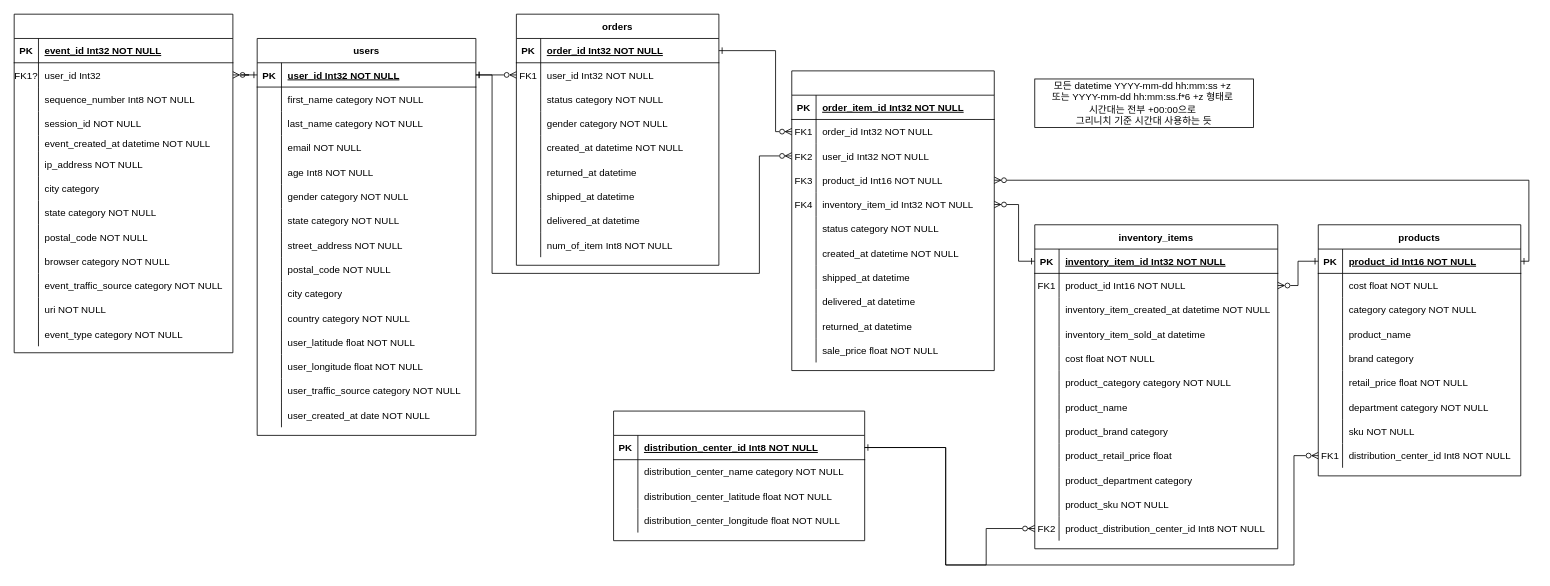
Some shapes in this 1550 by 586 pixel diagram are drawn without their labels. The shapes that lost their labels are listed below. From the top down, each one's box as (x1, y1, x2, y2) in pixels, then its label:
(13, 13, 233, 353): events (= event1 + event2)
(791, 70, 994, 371): order_items
(613, 410, 865, 541): distribution_centers
